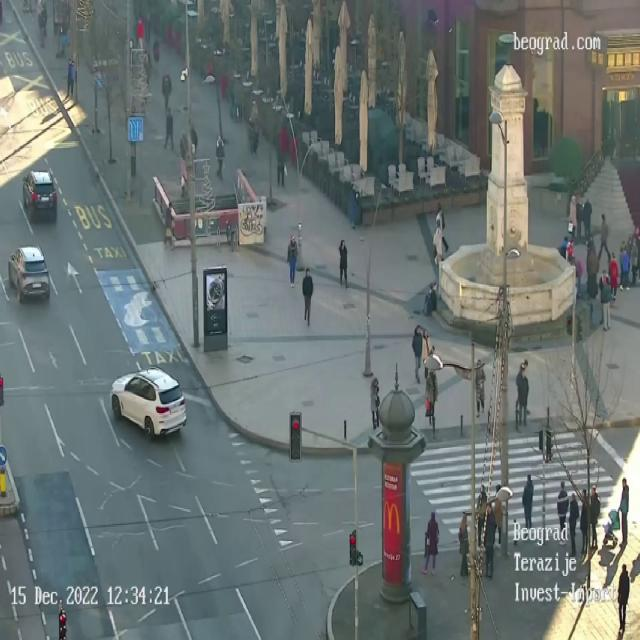car: (110, 366, 187, 439), (8, 244, 50, 304), (22, 169, 57, 211)
